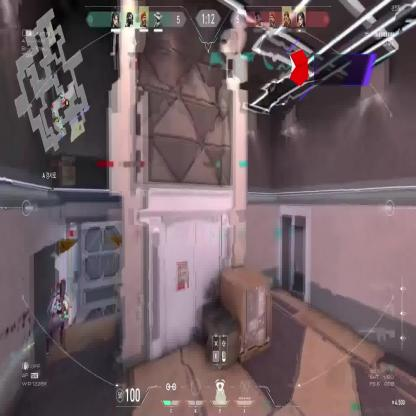enemy: (44, 280, 70, 355)
enemy_head: (55, 284, 60, 296)
